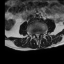CCS_normal: (36, 31, 38, 40)
LFS_severe_stenosis: (40, 32, 41, 36)
LLS_stenosis: (38, 32, 40, 37)
RFS_severe_stenosis: (33, 32, 35, 37)
RLS_stenosis: (35, 32, 36, 37)
